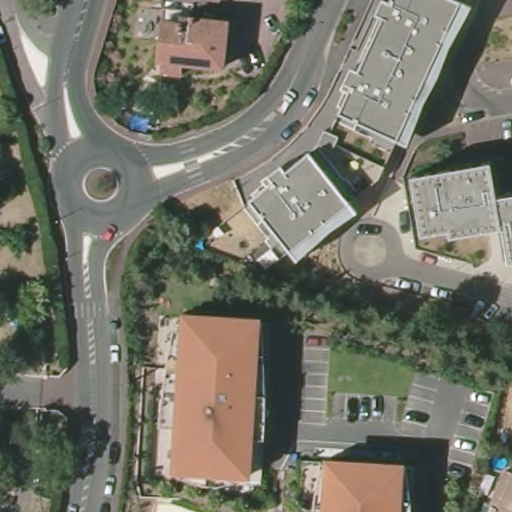pool: (125, 109, 155, 134), (490, 454, 509, 472)
